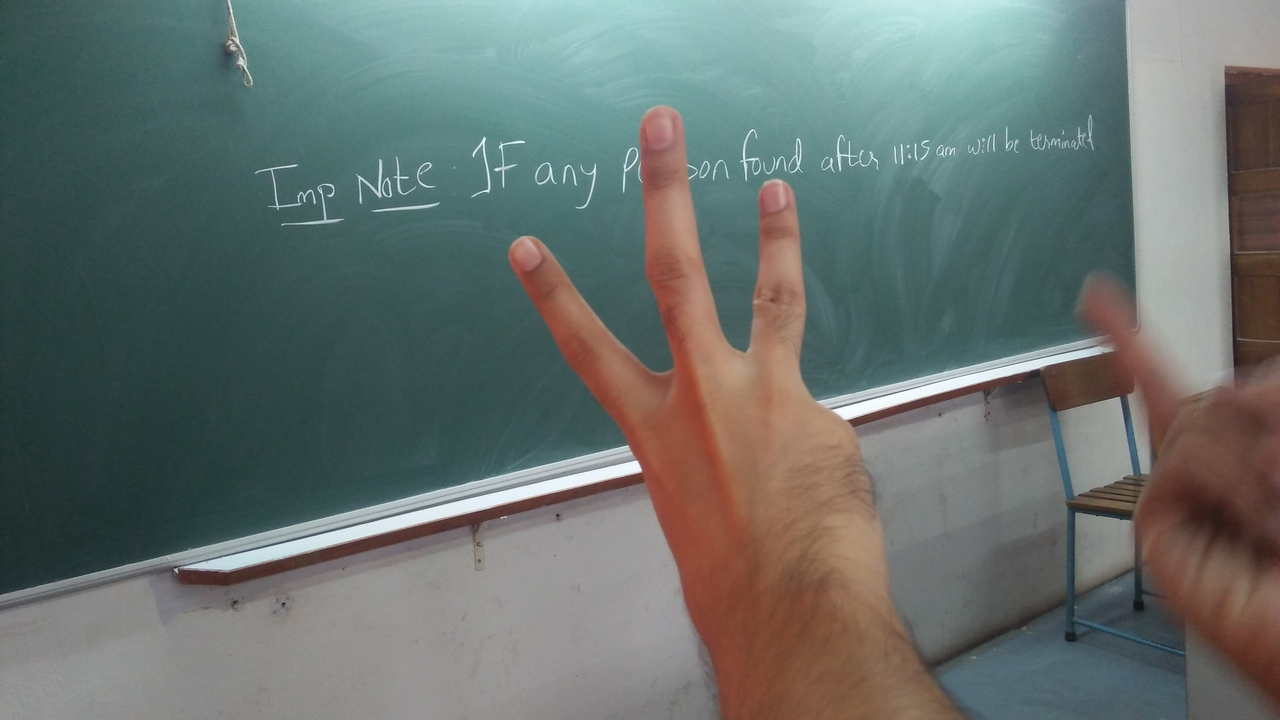fingertip: (498, 224, 560, 284), (634, 100, 688, 158), (754, 170, 804, 224)
